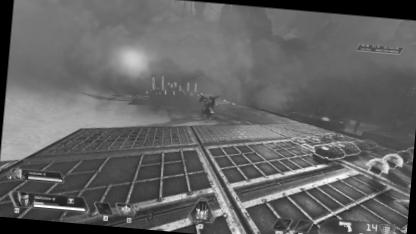Target: (200, 92, 216, 120)
